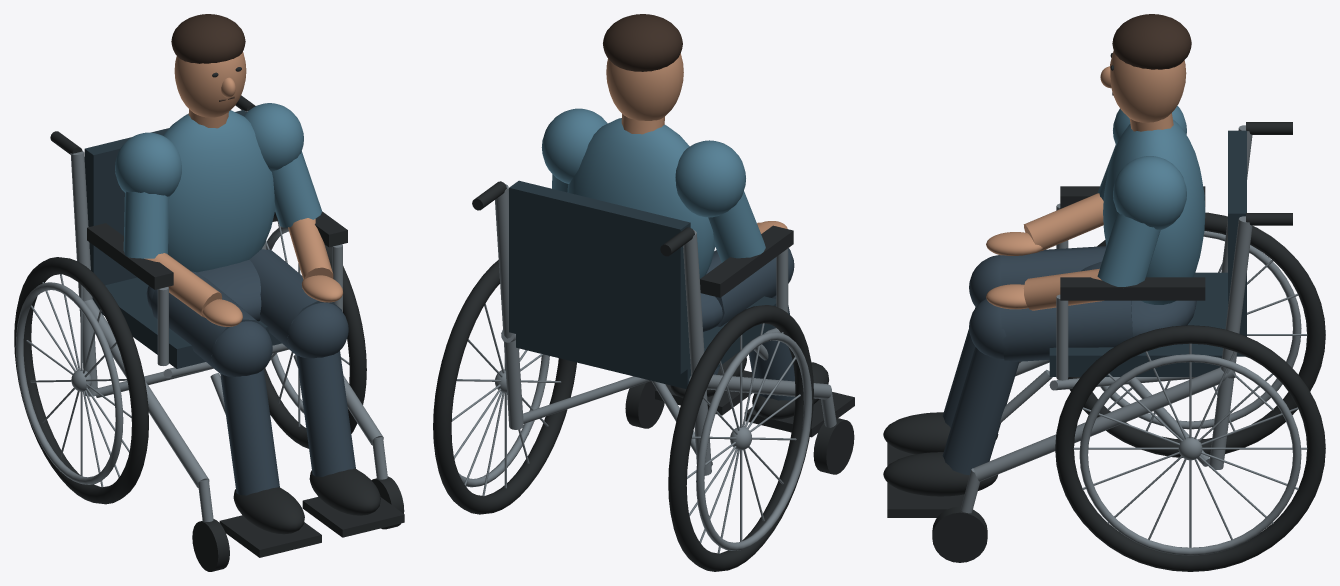
Rendered from person-wheelchair.glb.
3 views of the same model, side by side, from view 1: azimuth 30°, elevation 25°; view 2: azimuth 150°, elevation 25°; view 3: azimuth 270°, elevation 25° (orthographic). The views are drawn at different scales.
Bounding box in the file's own units: 0.72 × 1.28 × 1.04.
